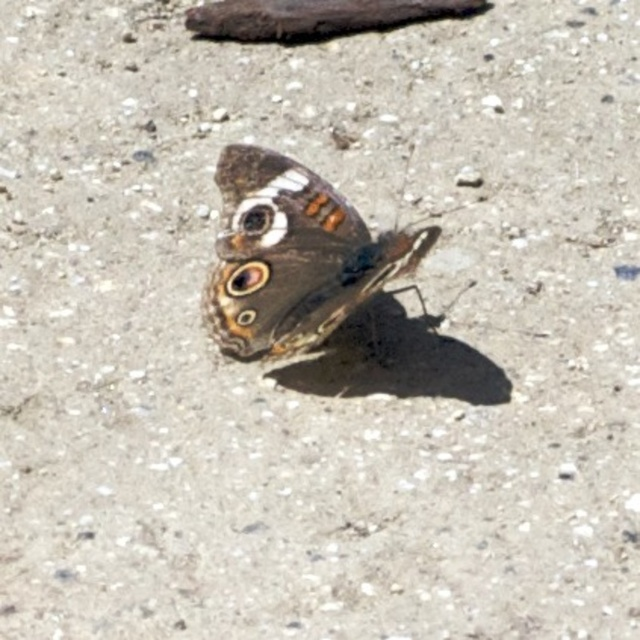Butterfly: (209, 136, 457, 368)
